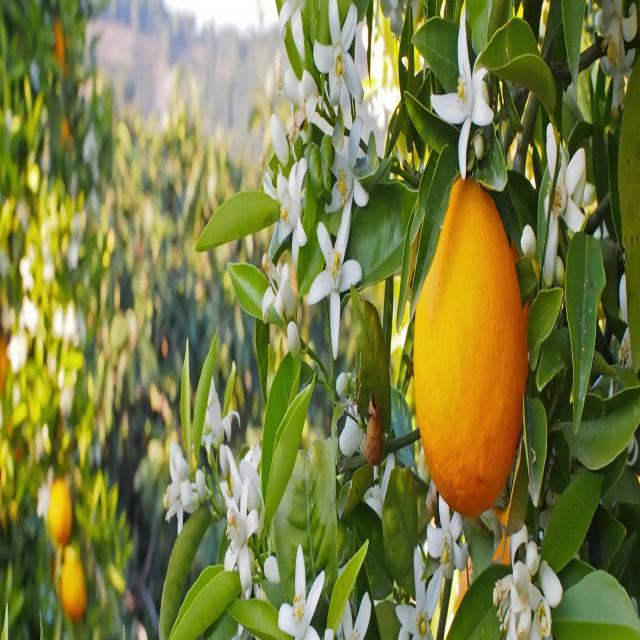Bunga: (434, 11, 492, 170), (308, 210, 364, 357), (538, 122, 587, 279), (322, 111, 368, 242), (316, 1, 362, 114), (422, 488, 468, 600), (220, 474, 258, 596), (396, 545, 444, 640), (278, 544, 325, 640), (272, 161, 308, 260), (200, 379, 240, 452), (162, 445, 190, 542), (601, 0, 639, 68), (596, 38, 628, 114), (523, 569, 552, 640), (340, 596, 373, 640), (340, 408, 362, 456), (278, 276, 299, 325), (270, 112, 288, 166), (284, 318, 300, 361), (244, 475, 262, 510), (512, 564, 530, 599), (472, 124, 485, 164), (524, 538, 538, 574), (522, 220, 536, 252), (336, 374, 352, 401), (265, 556, 280, 584), (284, 74, 299, 100), (218, 442, 229, 476)
Jeruk Sudah Matang: (412, 177, 528, 516)
